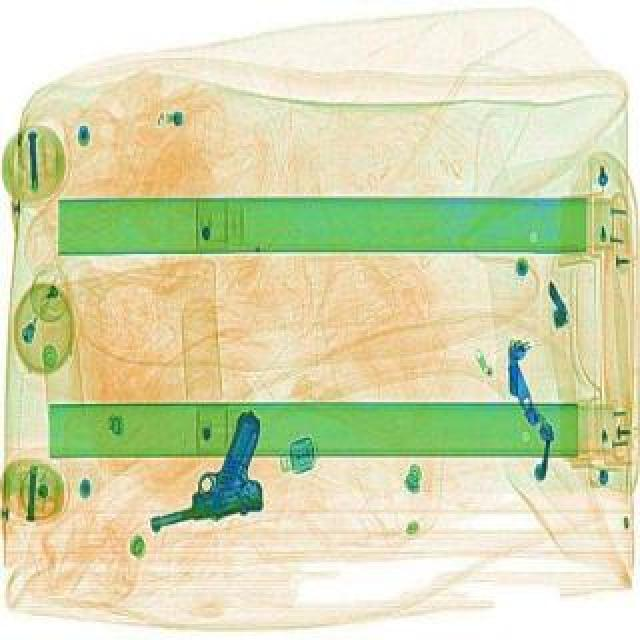gun: (132, 408, 272, 526)
